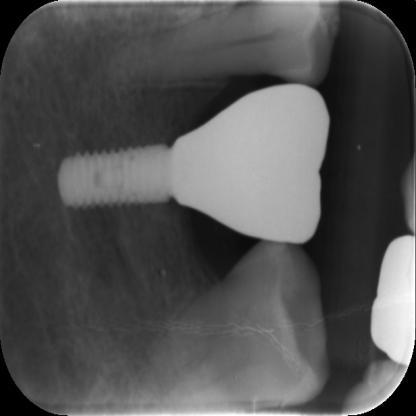ITI: (53, 118, 170, 232)
